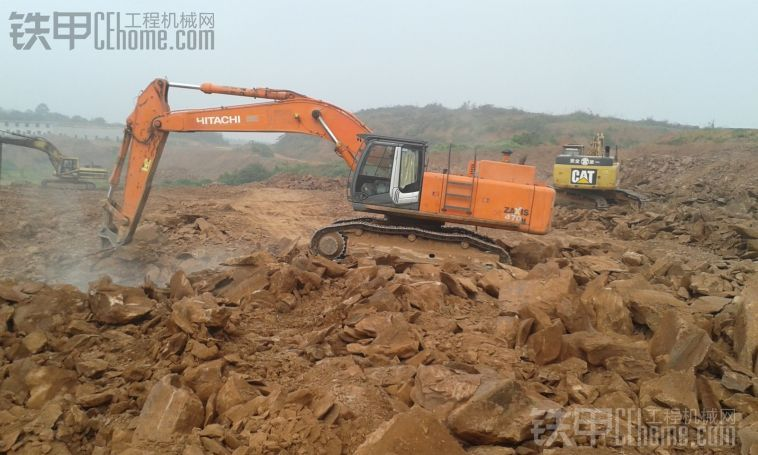excavator: (99, 74, 576, 304)
